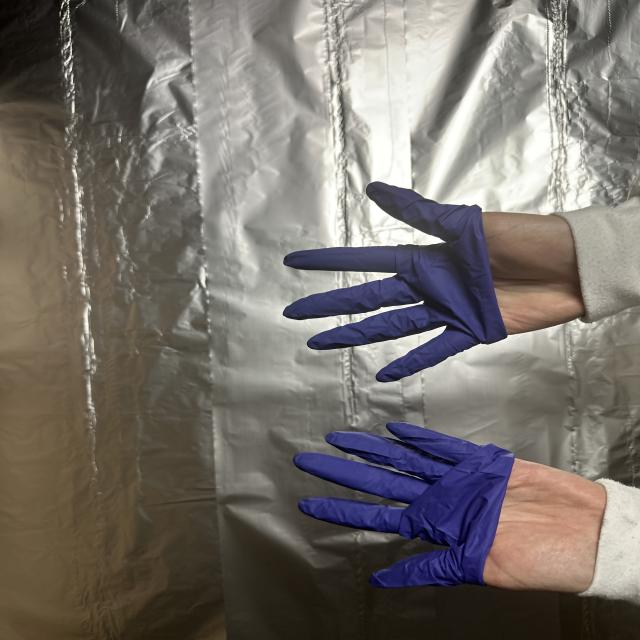glove_partial: (276, 179, 585, 385), (289, 417, 610, 601)
